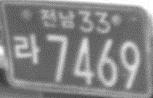3: (77, 9, 94, 34), (94, 10, 111, 35)
4: (72, 36, 95, 87)
6: (97, 38, 119, 88)
7: (45, 33, 68, 83)
9: (119, 40, 142, 90)
라: (11, 33, 40, 65)
전남_O: (39, 7, 75, 30)
